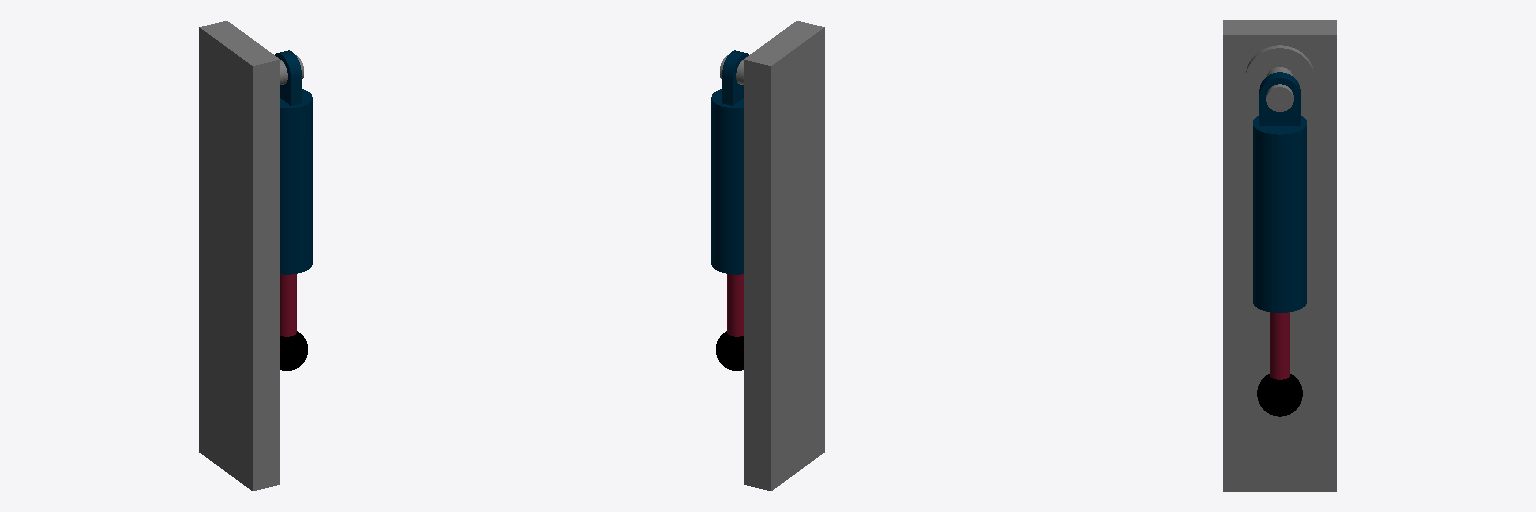
The robot description file, URDF, robot "rp_robot":
<?xml version="1.0"?>
<robot name="rp_robot">
    
    <!-- TO CHECK INERTIA PROPERTIES RUN roslaunch robot_inertia_publisher robot_inertia_publisher.launch --> 

    <material name="grey">
        <color rgba="0.5 0.5 0.5 1"/>
    </material>
    <material name="blue">
        <color rgba="0.0 0.2 0.3 1"/>
    </material>
    <material name="red">
        <color rgba="0.5 0.1 0.2 1"/>
    </material>
    <material name="black">
        <color rgba="0.0 0.0 0.0 1"/>
    </material>

    <link name="L00">
        <visual>
            <origin xyz="0.0 0.0 2.0" rpy="0.0 0.0 0.0"/>
            <geometry>
                <mesh filename="package://tameshiwari/robots/rp_robot_description/meshes/Link_00.stl" scale="1 1 1"/>
            </geometry>
            <material name="grey"/>
        </visual>
        <collision>
            <origin xyz="0.0 0.0 2.0" rpy="0.0 0.0 0.0"/>
            <geometry>
                <mesh filename="package://tameshiwari/robots/rp_robot_description/meshes/Link_00.stl" scale="1 1 1"/>
            </geometry>
        </collision>
        <inertial>
            <origin xyz="-0.251674 0.0 1.121284" rpy="0.0 0.0 0.0"/>
            <mass value="456.291"/>
            <inertia ixx="1.976e+2" ixy="2.277e-15" ixz="-1.333e0" iyy="1.894e+2" iyz="1.030e-15" izz="1.041e+1"/>
        </inertial>
    </link>

    <joint name="J00" type="revolute">
        <origin xyz="0.0 0.0 2.0" rpy="0.0 1.5707 0.0"/>
        <parent link="L00"/>
        <child link="L01"/>
        <axis xyz="0.0 0.0 1.0"/>
        <limit effort="10000" velocity="0.5" lower="-1.3090" upper="4.4506"/> 
        <!-- enforcing joint limits from [-5*pi/12,17*pi/12], resulting in a deadzone of 30 degrees -->
    </joint>
    
    <transmission name="trans_J00">
        <type>transmission_interface/SimpleTransmission</type>
        <joint name="J00">
            <hardwareInterface>hardware_interface/EffortJointInterface</hardwareInterface>
        </joint>
        <actuator name="motor_J00">
             <hardwareInterface>hardware_interface/EffortJointInterface</hardwareInterface>
             <mechanicalReduction>1</mechanicalReduction>
        </actuator>
    </transmission>

    <link name="L01">
        <visual>
            <origin xyz="0.0 0.0 0.0" rpy="0.0 0.0 0.0"/>
            <geometry>
                <mesh filename="package://tameshiwari/robots/rp_robot_description/meshes/Link_01.stl" scale="1 1 1"/>
            </geometry>
            <material name="blue" />
        </visual>
        <collision>
            <origin xyz="0.0 0.0 0.0" rpy="0.0 0.0 0.0"/>
            <geometry>
                <mesh filename="package://tameshiwari/robots/rp_robot_description/meshes/Link_01.stl" scale="1 1 1"/>
            </geometry>
        </collision>
        <inertial>
            <origin xyz="0.516573 0.0 0.0" rpy="0.0 0.0 0.0"/>
            <mass value="54.677"/>
            <inertia ixx="5.494e-1" ixy="-3.832e-4" ixz="0.0" iyy="5.022e0" iyz="0.0" izz="5.035e0"/>
        </inertial>
    </link>

    <joint name="J01" type="prismatic">
        <origin xyz="0.57 0.0 0.0" rpy="0.0 1.5707 0.0"/>
        <parent link="L01"/>
        <child link="L02"/>
        <axis xyz="0.0 0.0 1.0"/>
        <limit lower="-0.37" upper="0.37" effort="1000.0" velocity="0.5"/>
    </joint>

    <transmission name="trans_J01">
        <type>transmission_interface/SimpleTransmission</type>
        <joint name="J01">
            <hardwareInterface>hardware_interface/EffortJointInterface</hardwareInterface>
        </joint>
        <actuator name="motor_J01">
             <hardwareInterface>hardware_interface/EffortJointInterface</hardwareInterface>
             <mechanicalReduction>1</mechanicalReduction>
        </actuator>
    </transmission>

    <link name="L02">
        <visual>
            <origin xyz="0.0 0.0 0.0" rpy="0.0 0.0 0.0"/>
            <geometry>
                <mesh filename="package://tameshiwari/robots/rp_robot_description/meshes/Link_02.stl" scale="1 1 1"/>
            </geometry>
            <material name="red" />
        </visual>
        <collision>
            <origin xyz="0.0 0.0 0.0" rpy="0.0 0.0 0.0"/>
            <geometry>
                <mesh filename="package://tameshiwari/robots/rp_robot_description/meshes/Link_02.stl" scale="1 1 1"/>
            </geometry>
        </collision>
        <inertial>
            <origin xyz="0.0 0.0 0.352179" rpy="0.0 0.0 0.0"/>
            <mass value="17.606"/>
            <inertia ixx="1.349" ixy="0.0" ixz="0.0" iyy="1.349" iyz="0.0" izz="2.816e-2"/>
        </inertial>
    </link>

    <joint name="J02" type="fixed">
        <origin xyz="0.0 0.0 0.875" rpy="0.0 0.0 0.0"/>
        <parent link="L02"/>
        <child link="EE"/>
    </joint>

    <link name="EE">
        <visual>
            <origin xyz="0.0 0.0 0.0" rpy="0.0 0.0 0.0"/>
            <geometry>
                <sphere radius="0.1"/>
            </geometry>
            <material name="black" />
        </visual>
        <collision>
            <origin xyz="0.0 0.0 0.0" rpy="0.0 0.0 0.0"/>
            <geometry>
                <sphere radius="0.1"/>
            </geometry>
        </collision>
        <inertial>
            <origin xyz="0.0 0.0 0.0" rpy="0.0 0.0 0.0"/>
            <mass value="1000"/>
            <inertia ixx="4.0" ixy="0.0" ixz="0.0" iyy="4.0" iyz="0.0" izz="4.0"/>
        </inertial>
    </link>

</robot>

--- What the picture shows (computed from the rendered views, not written in the file) ---
Views: 3 orthographic renders of the robot side by side, from view 1: azimuth 30°, elevation 25°; view 2: azimuth 150°, elevation 25°; view 3: azimuth 270°, elevation 25°.
Robot: rp_robot — 4 links, 3 joints (1 revolute, 1 prismatic, 1 fixed); root link L00; default pose: every joint at zero.
Links seen in each view (by area): view 1: L00, L01, L02, EE; view 2: L00, L01, L02, EE; view 3: L00, L01, EE, L02.
Link boxes in pixels (bbox=[...]): L00: bbox=[199, 21, 303, 490]; L01: bbox=[275, 50, 312, 274]; L02: bbox=[280, 274, 296, 336]; EE: bbox=[280, 331, 307, 370]; L00: bbox=[720, 21, 824, 490]; L01: bbox=[711, 50, 748, 274]; L02: bbox=[727, 274, 743, 336]; EE: bbox=[716, 331, 743, 370]; L00: bbox=[1223, 20, 1336, 491]; L01: bbox=[1253, 72, 1306, 312]; EE: bbox=[1257, 374, 1302, 416]; L02: bbox=[1270, 312, 1289, 379].
Size in the robot's own frame: 0.4501 by 0.5 by 2.2 metres.
3 mesh visuals loaded from 3 distinct referenced files (3 binary STL).